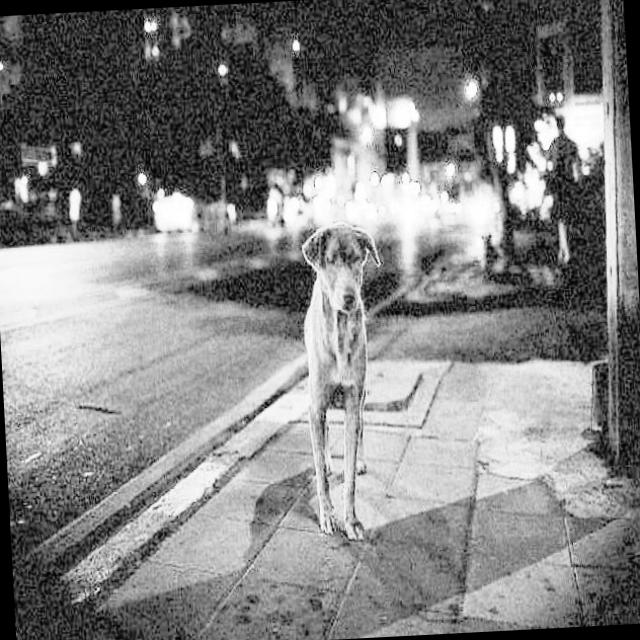Dog: (270, 217, 412, 538)
